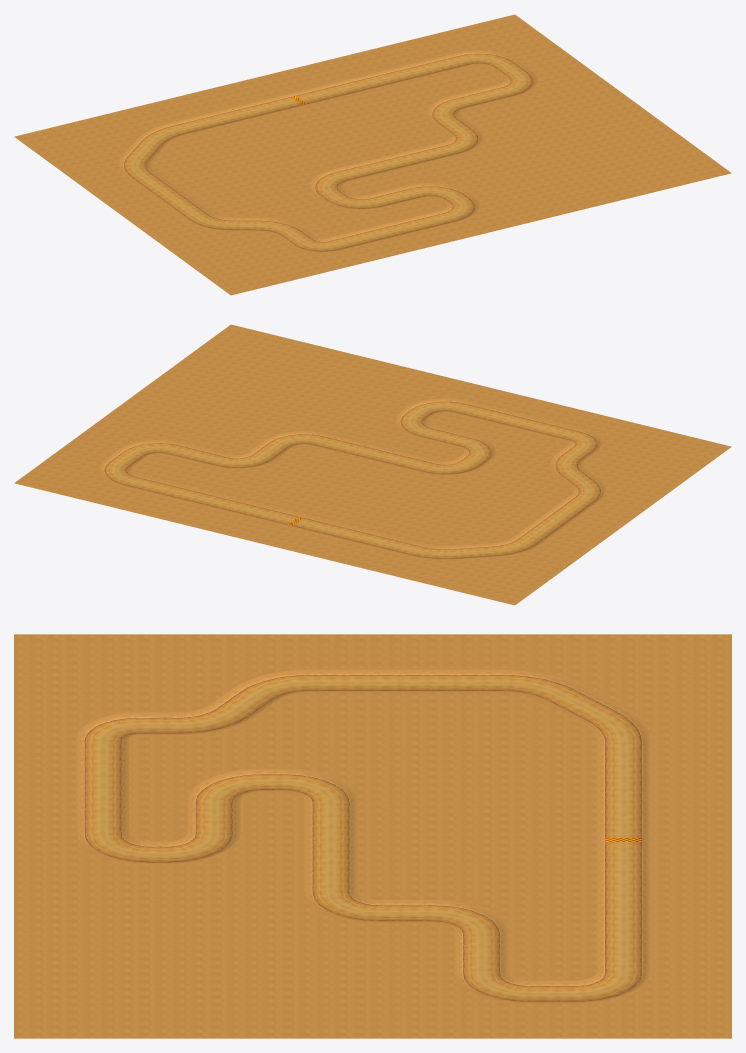
File: rc_03_grd_dm.FBX
3 views of the same model, one above another, from view 1: azimuth 30°, elevation 25°; view 2: azimuth 150°, elevation 25°; view 3: azimuth 270°, elevation 25° (orthographic). The views are drawn at different scales.
Parts seen in each view (by area): view 1: Plane001, Line002; view 2: Plane001, Line002; view 3: Plane001, Line002.
Boxes of the visible parts, left/top/right/bottom form: Plane001: left=14, top=14, right=731, bottom=295; Line002: left=118, top=50, right=537, bottom=252; Plane001: left=14, top=324, right=731, bottom=605; Line002: left=99, top=398, right=605, bottom=559; Plane001: left=14, top=634, right=731, bottom=1038; Line002: left=76, top=669, right=650, bottom=1002.
Bounding box in the file's own units: 80000 × 60000 × 201.
